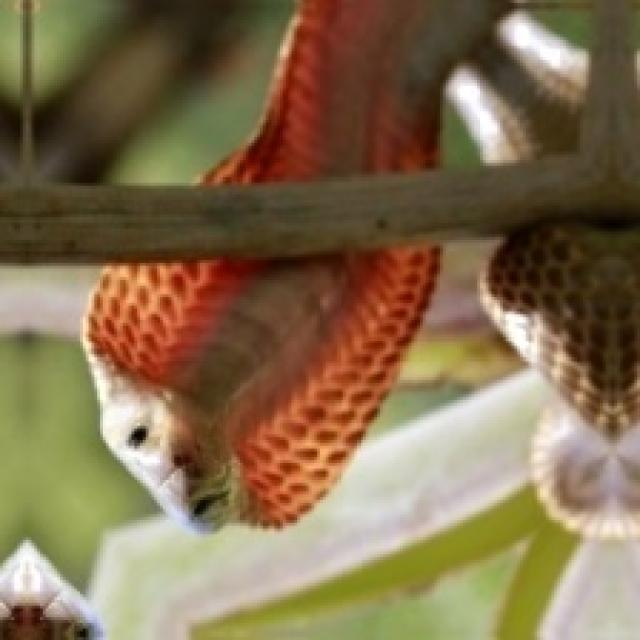philippine cobra: (86, 243, 437, 529), (86, 246, 437, 529), (203, 0, 503, 183), (206, 0, 469, 180), (491, 223, 637, 431)
